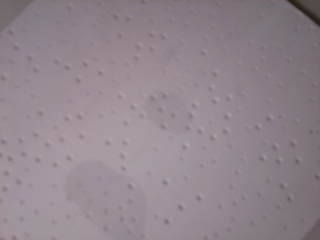Water_detected: (77, 168, 132, 221), (147, 96, 188, 135)
